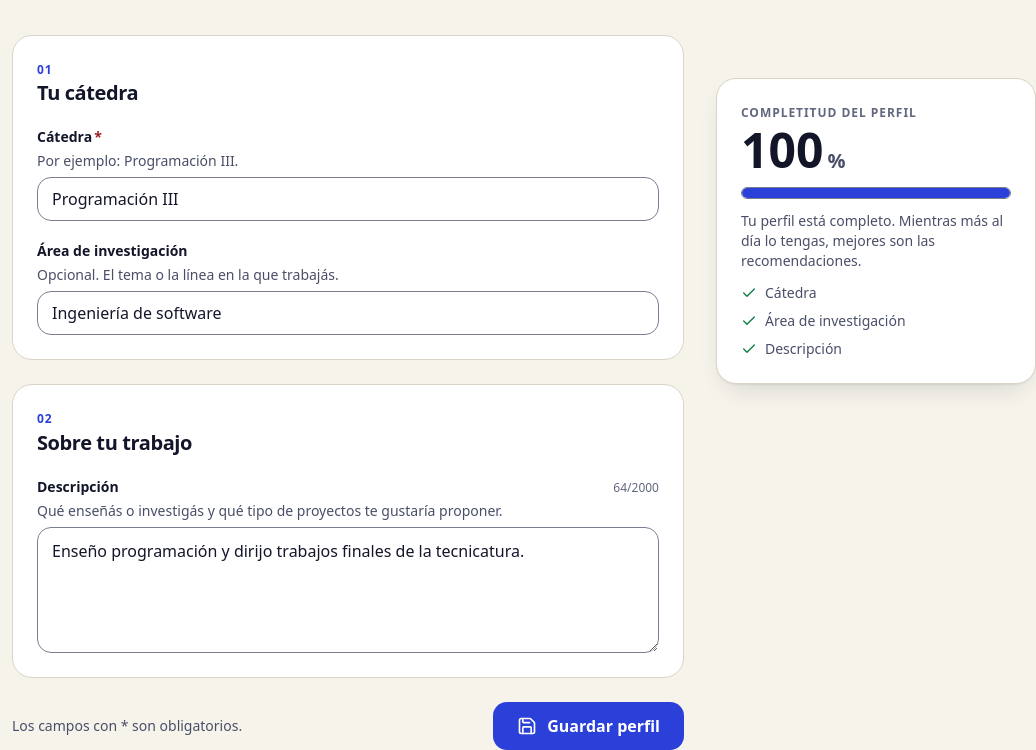
Test: PerfilPage › si el guardado falla muestra el error y no refresca ni avisa éxito
(page scrolled)
Click the button "Guardar perfil".
click(589, 726)  # box [493,702,684,749]
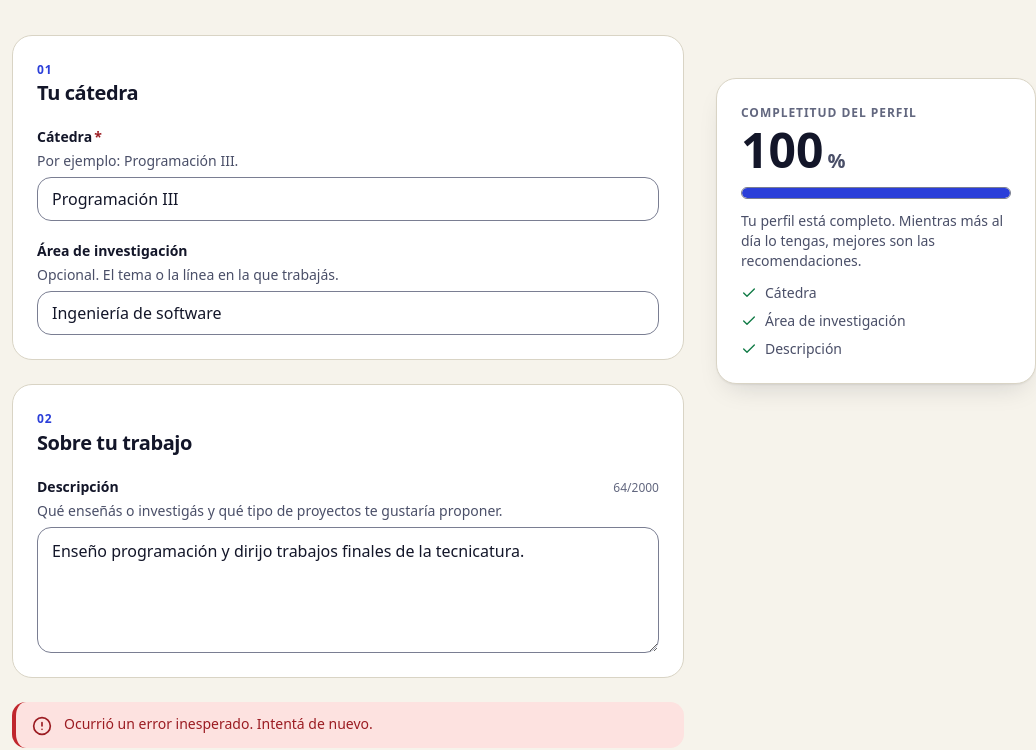
Check: the text "Ocurrió un error inesperado. Intentá de nuevo." is shown, box [64,714,373,734]
